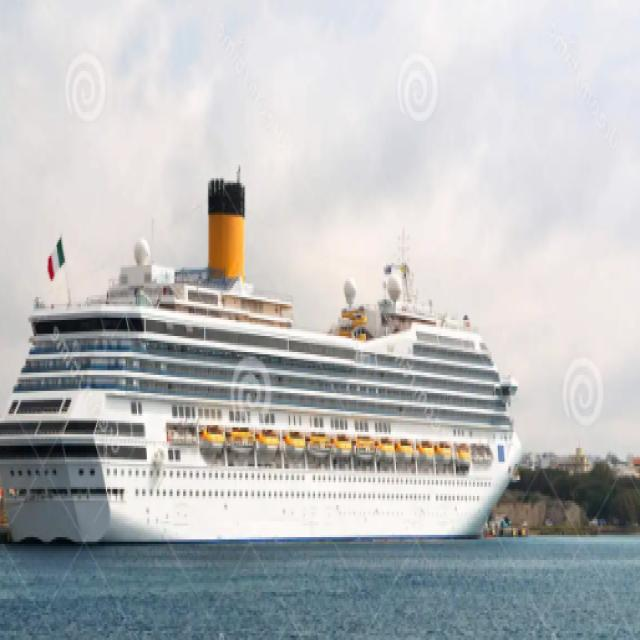passenger ship: (0, 130, 519, 572)
